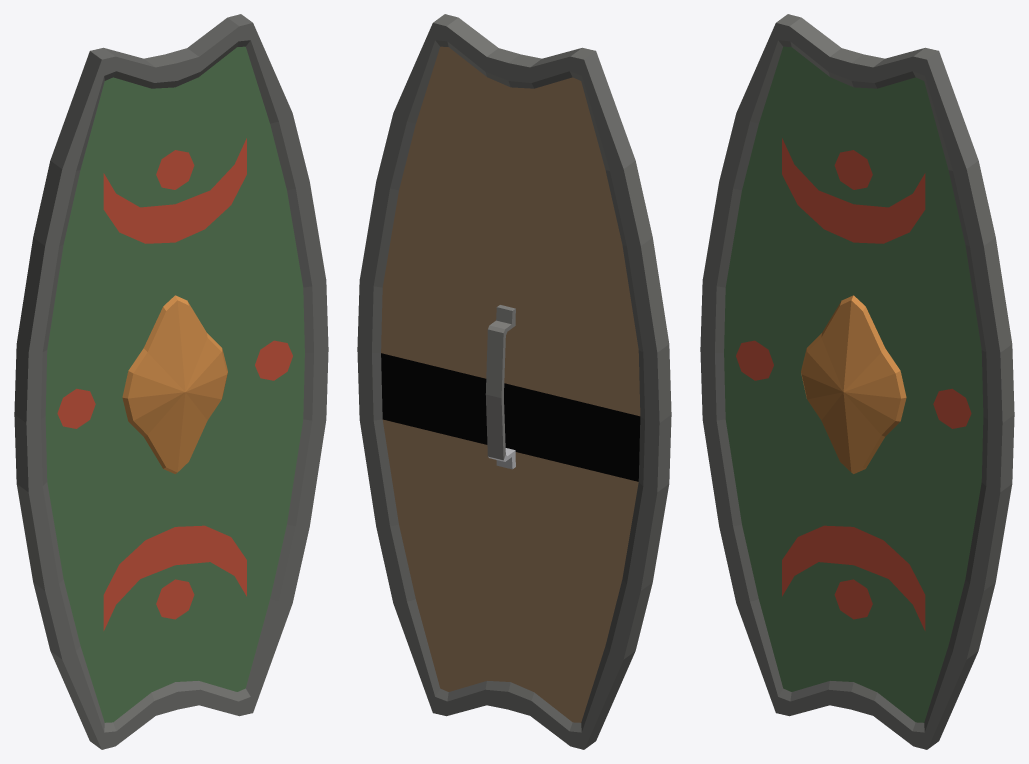
File: SM_pwe_gauls_shield_11.fbx
3 renders of one model, left to right at view 1: azimuth 30°, elevation 25°; view 2: azimuth 150°, elevation 25°; view 3: azimuth 330°, elevation 25°, orthographic.
Visible parts, largest first — view 1: SM_pwe_gauls_shield_11; view 2: SM_pwe_gauls_shield_11; view 3: SM_pwe_gauls_shield_11.
Part boxes in pixels (x1,y1,x2,y2): SM_pwe_gauls_shield_11: (14,14,328,749); SM_pwe_gauls_shield_11: (357,14,671,749); SM_pwe_gauls_shield_11: (700,14,1014,749).
Bounding box in the file's own units: 51.67 × 113 × 9.99.
